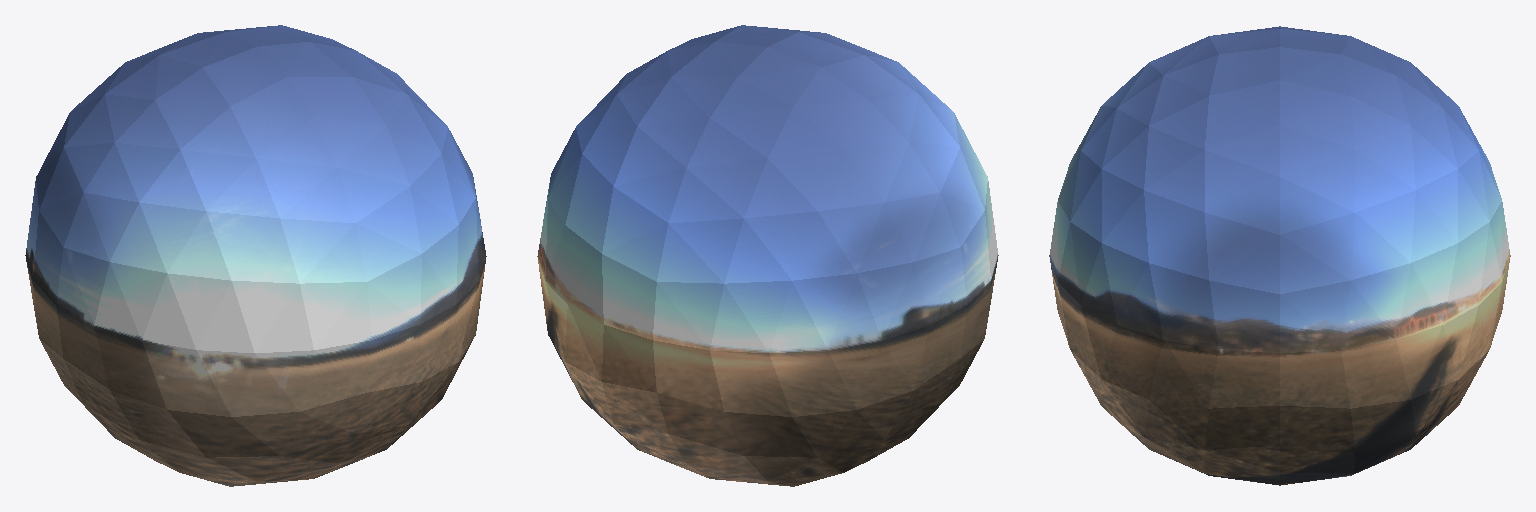
The picture shows the model from 3 angles: view 1: azimuth 30°, elevation 25°; view 2: azimuth 150°, elevation 25°; view 3: azimuth 270°, elevation 25°; orthographic projection.
Visible parts, largest first — view 1: Sphere001; view 2: Sphere001; view 3: Sphere001.
Part boxes in pixels (left/top/right/bottom): Sphere001: left=25, top=25, right=486, bottom=486; Sphere001: left=537, top=25, right=998, bottom=486; Sphere001: left=1049, top=26, right=1510, bottom=485.
Size of the model in its own units: 765 by 765 by 765.
Materials: 1 (1 with a texture image).